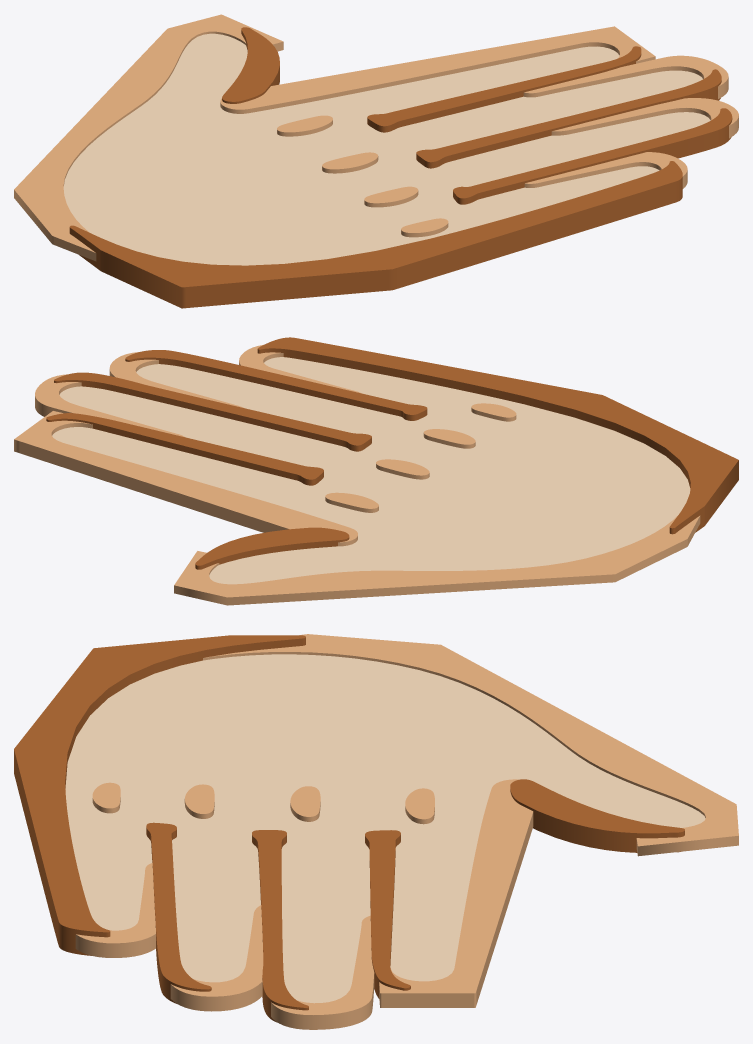
Rendered from emoji_u1faf1_1f3fb.glb.
3 views of the same model, one above another, from view 1: azimuth 30°, elevation 25°; view 2: azimuth 150°, elevation 25°; view 3: azimuth 270°, elevation 25° (orthographic). The views are drawn at different scales.
Parts seen in each view (by area): view 1: emoji_u1faf1_1f3fb; view 2: emoji_u1faf1_1f3fb; view 3: emoji_u1faf1_1f3fb.
Part boxes in pixels (x1=…): emoji_u1faf1_1f3fb: x1=14, y1=14, x2=738, y2=308; emoji_u1faf1_1f3fb: x1=14, y1=337, x2=738, y2=605; emoji_u1faf1_1f3fb: x1=14, y1=634, x2=738, y2=1029.
Bounding box in the file's own units: 0.0334 × 0.001 × 0.0267.
